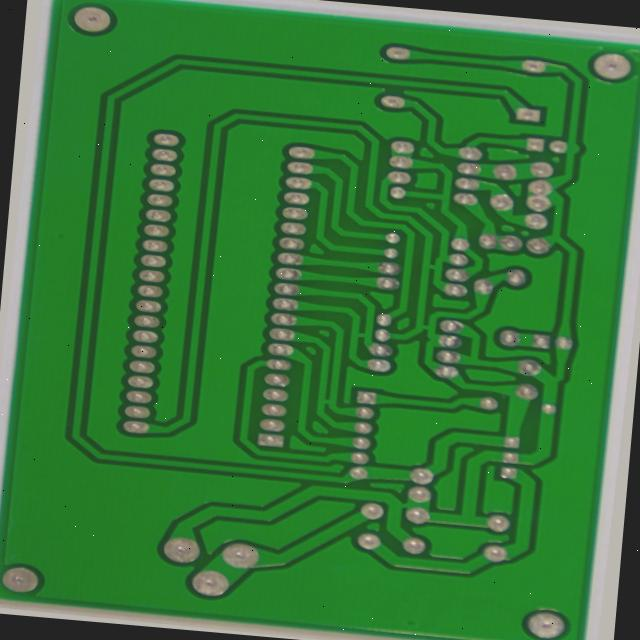short: (396, 495, 429, 518), (313, 392, 344, 413), (348, 325, 377, 345), (416, 316, 442, 336), (421, 256, 444, 273)
